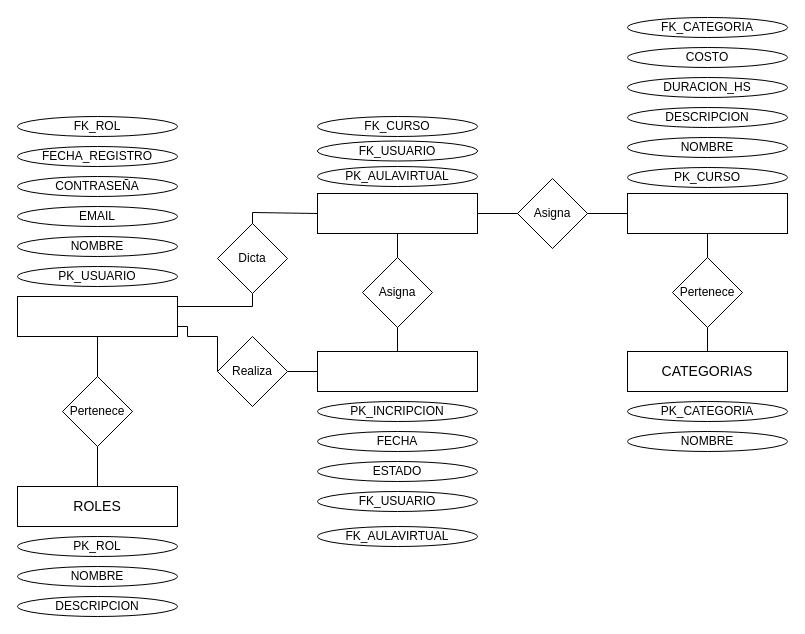
This 805x634 diagram has some shape labels left out. The shapes that lost their labels are listed below. From the top down, each one's box as (x1, y1, x2, y2) in pixels, then its label:
(316, 192, 478, 234): AULASVIRTUALES
(626, 192, 788, 234): CURSOS
(16, 296, 178, 336): USUARIOS
(316, 350, 478, 392): INCRIPCIONES
